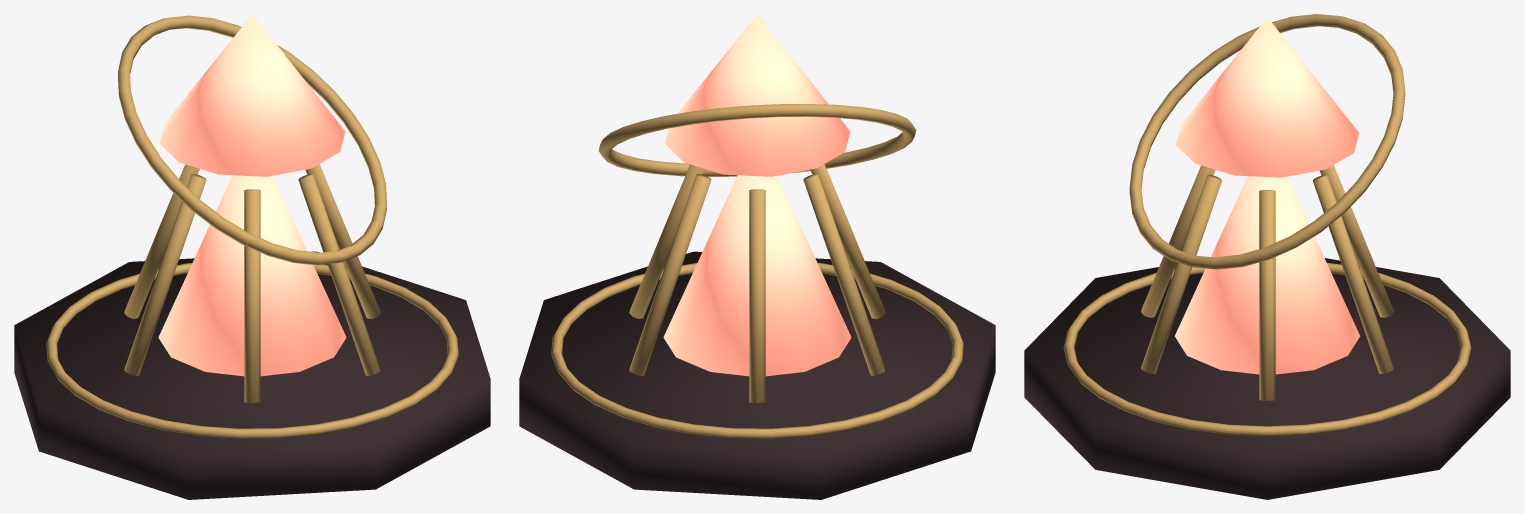
3 renders of one model, left to right at view 1: azimuth 30°, elevation 25°; view 2: azimuth 150°, elevation 25°; view 3: azimuth 270°, elevation 25°, orthographic.
Visible parts, largest first — view 1: Hexagonal plinth, Lower crystal, Upper crystal, Orbit, Inlaid rim, Brass setting.004, Brass setting.005, Brass setting.003, Brass setting.002, Brass setting; view 2: Hexagonal plinth, Lower crystal, Upper crystal, Inlaid rim, Orbit, Brass setting.002, Brass setting.001, Brass setting.003, Brass setting, Brass setting.004; view 3: Hexagonal plinth, Lower crystal, Upper crystal, Orbit, Inlaid rim, Brass setting, Brass setting.005, Brass setting.001, Brass setting.002, Brass setting.004.
Part boxes in pixels (bbox=[...]): Hexagonal plinth: bbox=[14, 251, 490, 499]; Lower crystal: bbox=[158, 175, 346, 376]; Upper crystal: bbox=[159, 14, 345, 176]; Orbit: bbox=[118, 15, 386, 265]; Inlaid rim: bbox=[46, 263, 458, 438]; Brass setting.004: bbox=[244, 189, 260, 402]; Brass setting.005: bbox=[298, 174, 380, 375]; Brass setting.003: bbox=[124, 174, 206, 375]; Brass setting.002: bbox=[124, 164, 199, 318]; Brass setting: bbox=[305, 164, 380, 318]; Hexagonal plinth: bbox=[519, 251, 995, 499]; Lower crystal: bbox=[663, 175, 851, 376]; Upper crystal: bbox=[664, 14, 850, 176]; Inlaid rim: bbox=[551, 263, 963, 438]; Orbit: bbox=[598, 104, 916, 176]; Brass setting.002: bbox=[749, 189, 765, 402]; Brass setting.001: bbox=[629, 174, 711, 375]; Brass setting.003: bbox=[803, 174, 885, 375]; Brass setting: bbox=[629, 164, 704, 318]; Brass setting.004: bbox=[810, 164, 885, 318]; Hexagonal plinth: bbox=[1024, 258, 1510, 499]; Lower crystal: bbox=[1174, 176, 1360, 374]; Upper crystal: bbox=[1175, 17, 1358, 177]; Orbit: bbox=[1129, 14, 1405, 269]; Inlaid rim: bbox=[1063, 263, 1471, 435]; Brass setting: bbox=[1259, 190, 1275, 400]; Brass setting.005: bbox=[1141, 175, 1221, 373]; Brass setting.001: bbox=[1313, 175, 1393, 373]; Brass setting.002: bbox=[1320, 165, 1393, 317]; Brass setting.004: bbox=[1141, 165, 1215, 317].
Size of the model in its own units: 1.52 by 1.31 by 1.52.
